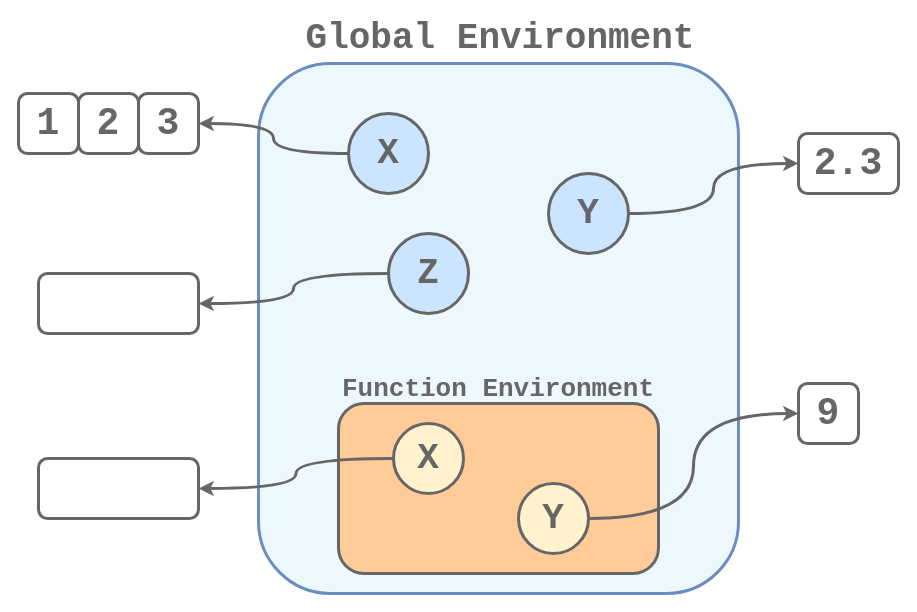
Some shapes in this 917 by 612 pixel diagram are drawn without their labels. Here are the shapes that lost their labels. From the top down, the centre of each, then its label:
point (118, 303): "foo"
point (118, 488): "bar"
